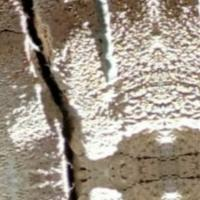crack: (15, 0, 88, 199)
